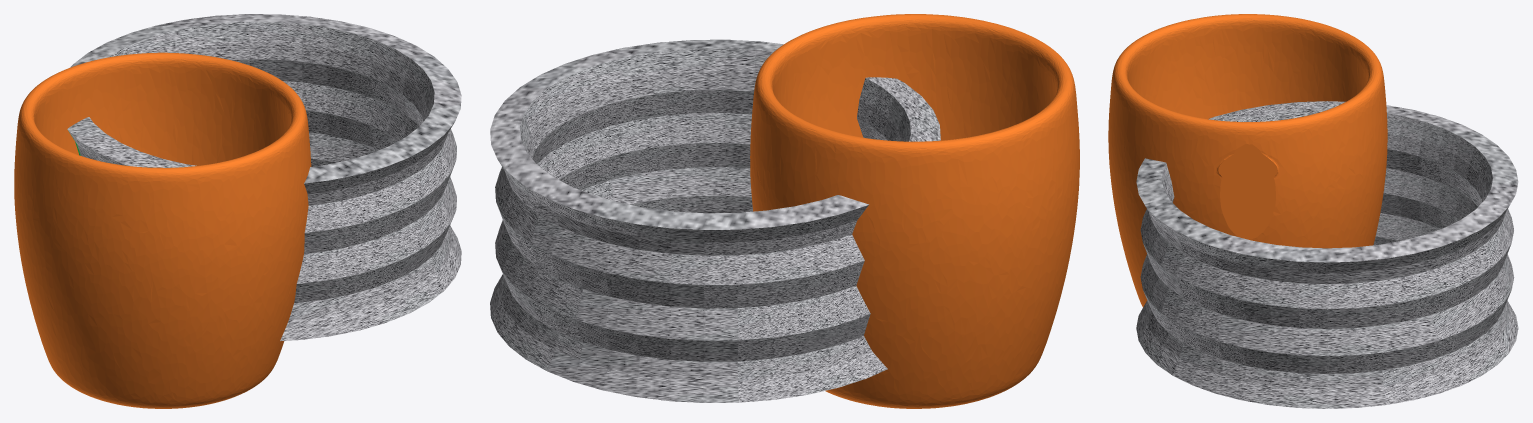
Rendered from Mug.glb.
3 views of the same model, side by side, from view 1: azimuth 30°, elevation 25°; view 2: azimuth 150°, elevation 25°; view 3: azimuth 270°, elevation 25° (orthographic). The views are drawn at different scales.
Bounding box in the file's own units: 0.1801 × 0.0998 × 0.1539.
3 materials, 1 textured.
